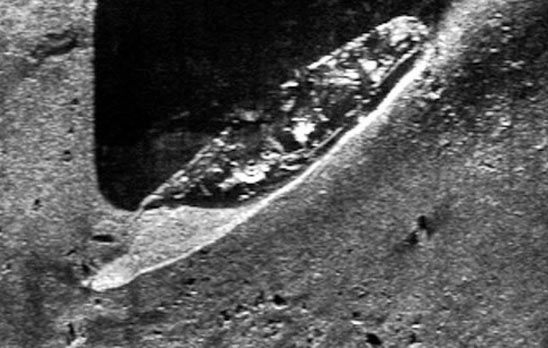ship: (92, 16, 432, 295)
